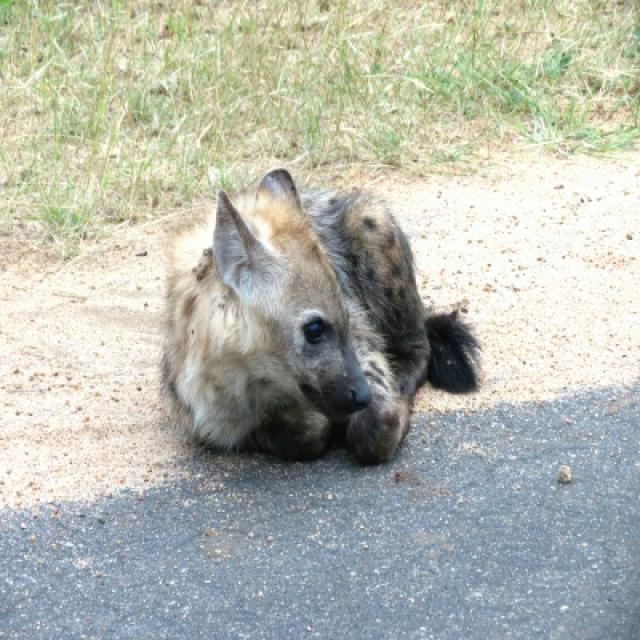hyena: (158, 168, 480, 467)
